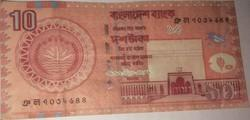10 taka: (0, 1, 250, 108)
